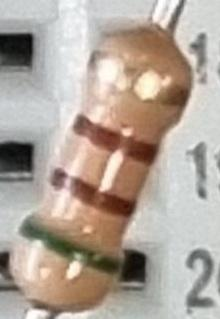Brown: (45, 166, 136, 221), (69, 113, 159, 167)
Green: (19, 212, 124, 279)
Side-Silver: (78, 48, 190, 110)
